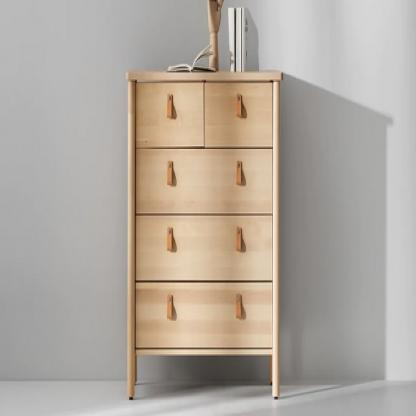Sideboard: (124, 69, 284, 402)
